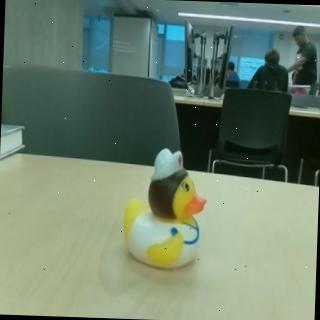duck_specialty: (122, 145, 211, 272)
